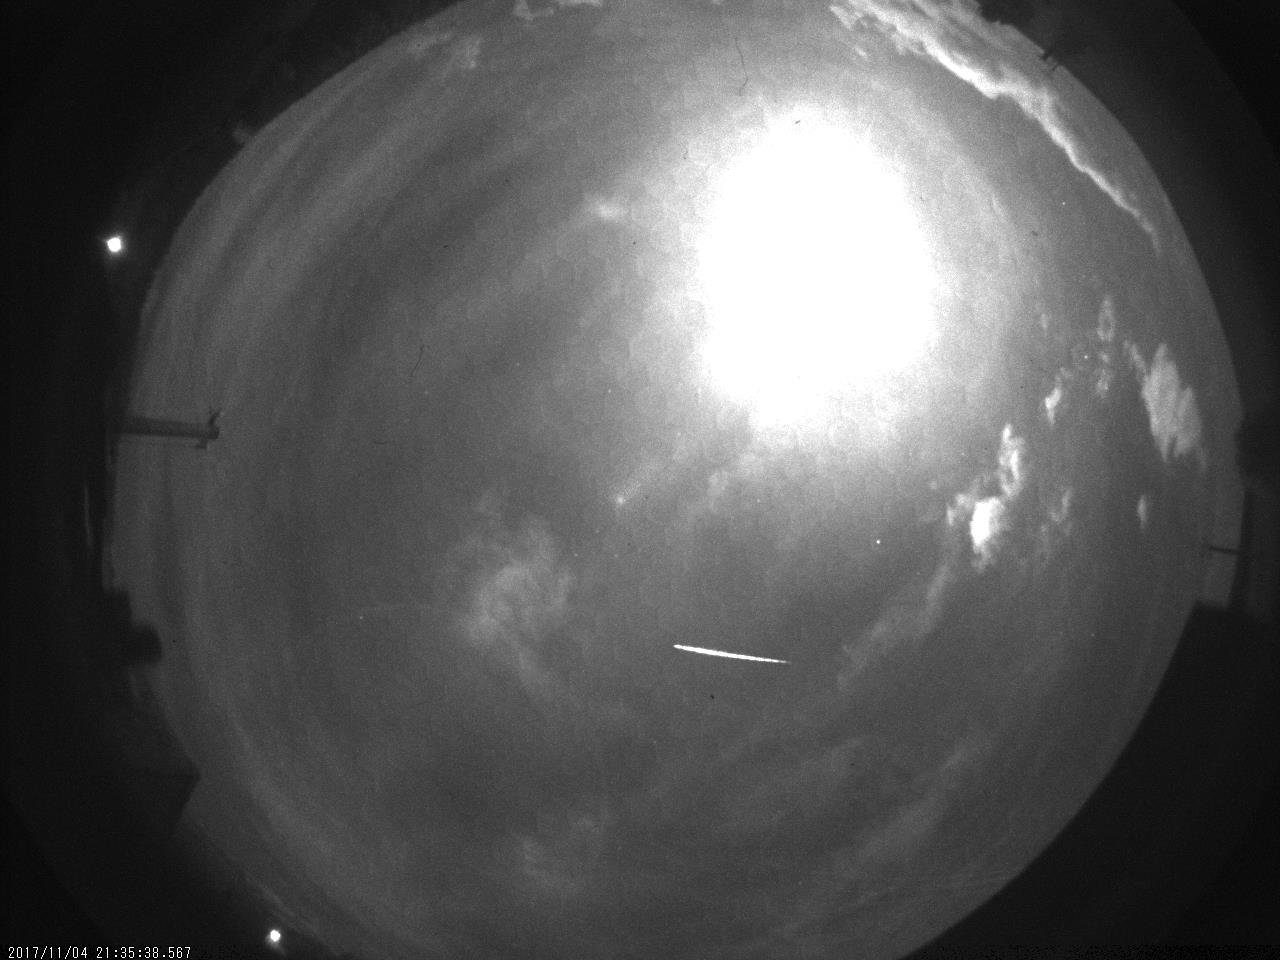meteor: (636, 617, 826, 692)
